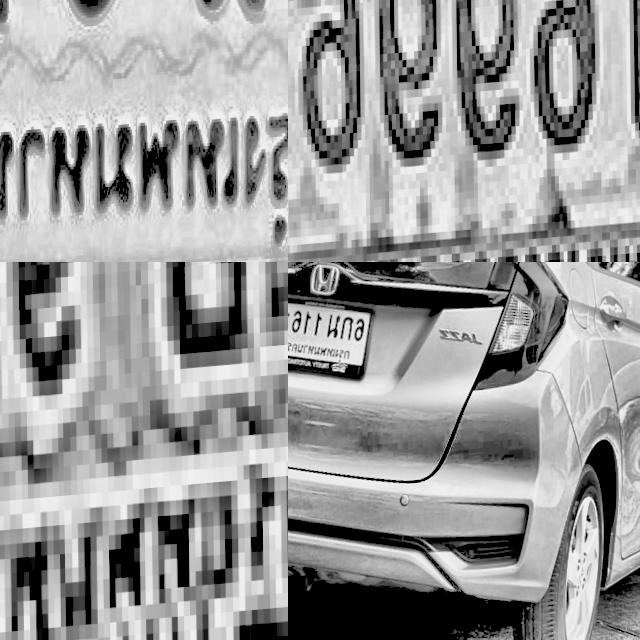license-plate: (0, 262, 288, 640), (288, 0, 640, 262), (0, 0, 288, 262), (288, 292, 374, 394)
